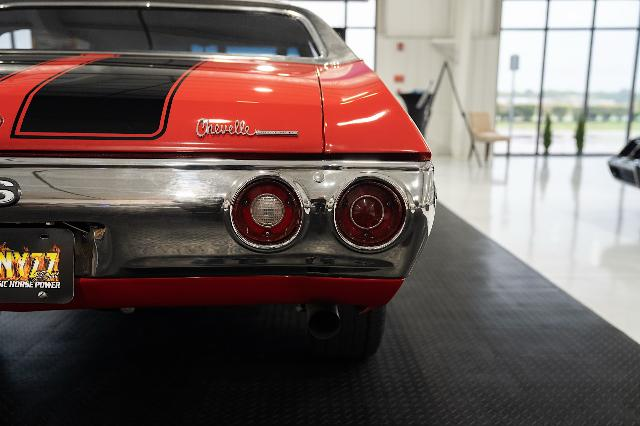chevelle-1972: (0, 0, 437, 359)
